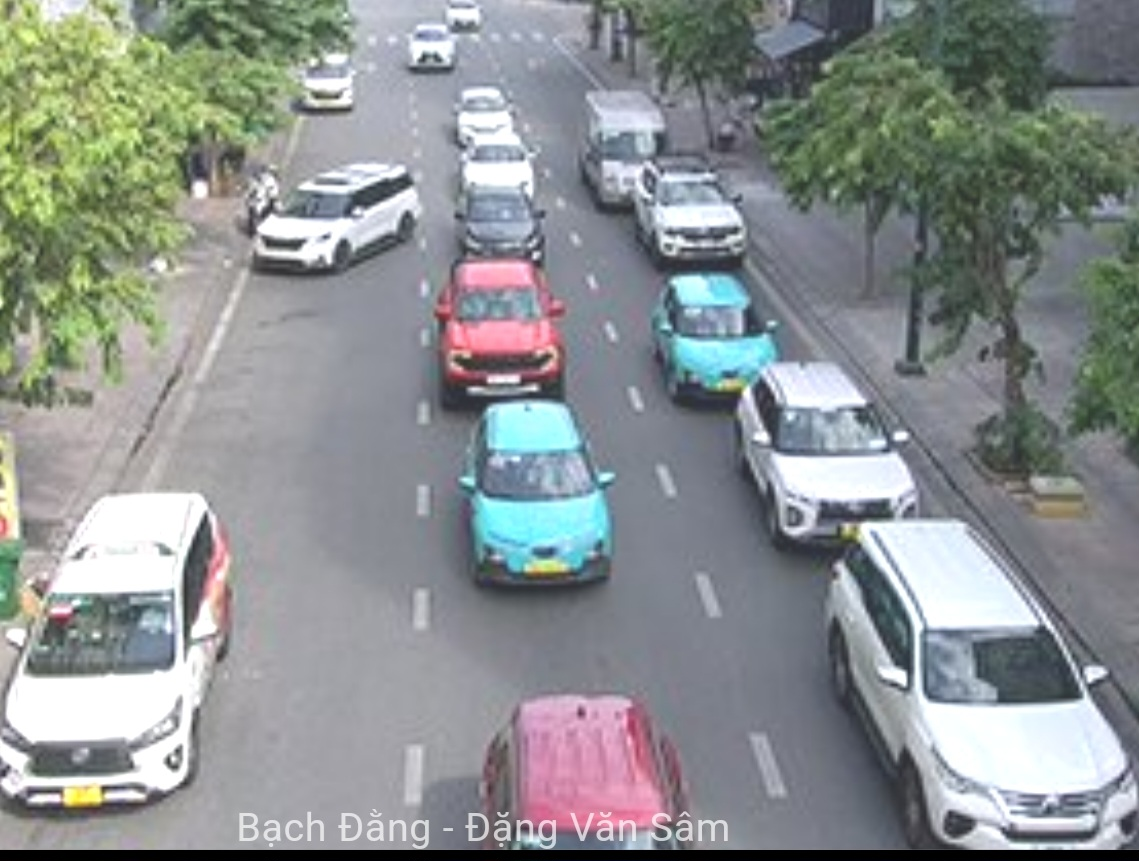car: (821, 532, 1133, 853), (1, 497, 234, 807), (478, 704, 701, 861), (737, 372, 924, 542), (465, 407, 615, 591), (432, 256, 568, 405), (256, 153, 420, 264), (651, 273, 774, 403), (638, 158, 746, 267), (579, 92, 671, 207), (453, 184, 551, 253), (456, 134, 539, 189), (454, 83, 516, 141), (303, 51, 354, 110), (407, 25, 457, 69)
